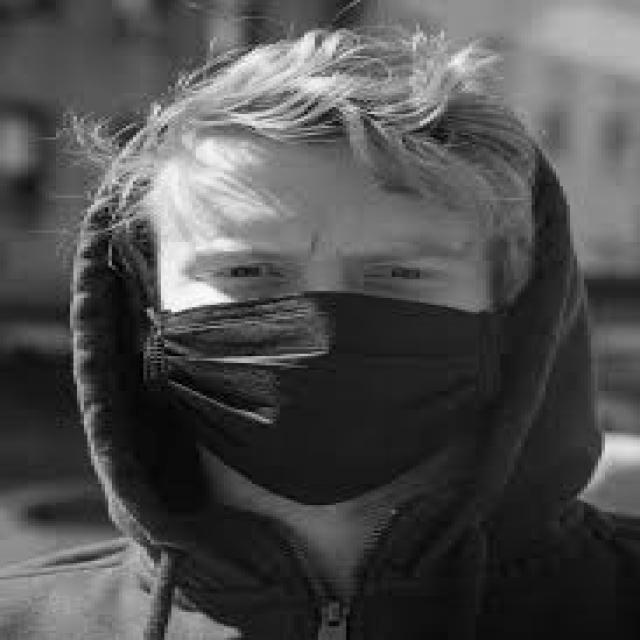fake: (127, 291, 517, 512)
real: (156, 136, 495, 510)
